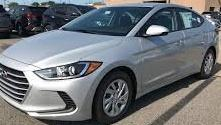Cars: (1, 4, 218, 124)
